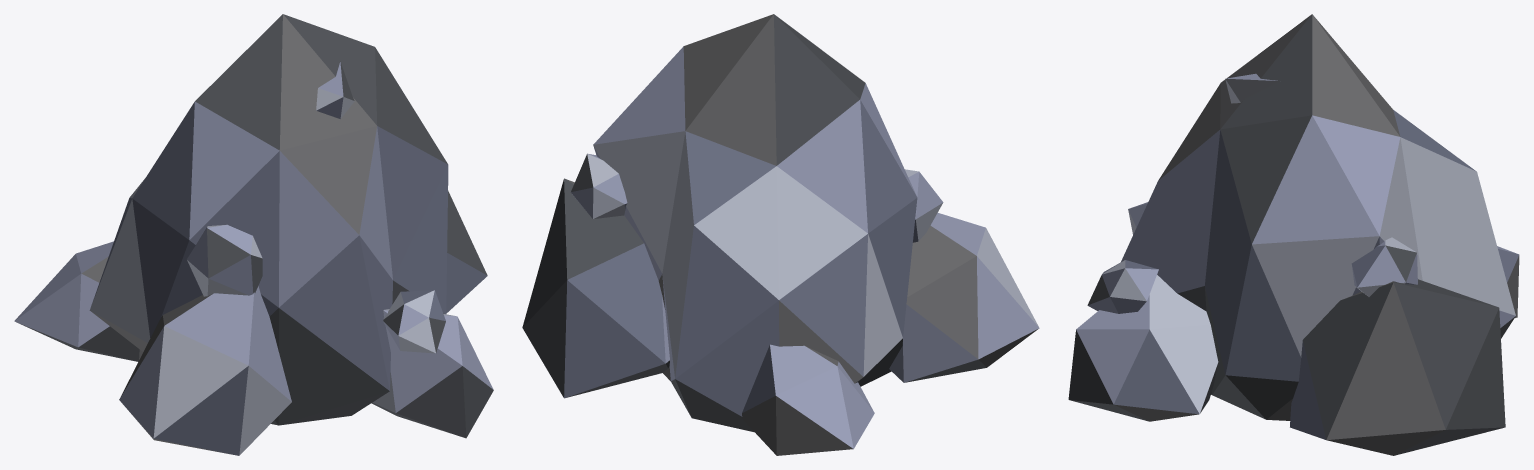
File: titanium_ore_b.glb
The picture shows the model from 3 angles, left to right: view 1: azimuth 30°, elevation 25°; view 2: azimuth 150°, elevation 25°; view 3: azimuth 270°, elevation 25°; orthographic projection. The views are drawn at different scales.
Visible parts, largest first — view 1: titanium_ore_b; view 2: titanium_ore_b; view 3: titanium_ore_b.
Boxes of the visible parts, x1=… form: titanium_ore_b: x1=14, y1=14, x2=493, y2=455; titanium_ore_b: x1=522, y1=14, x2=1039, y2=455; titanium_ore_b: x1=1068, y1=14, x2=1519, y2=455.
Size of the model in its own units: 1.18 by 0.9636 by 1.11.
